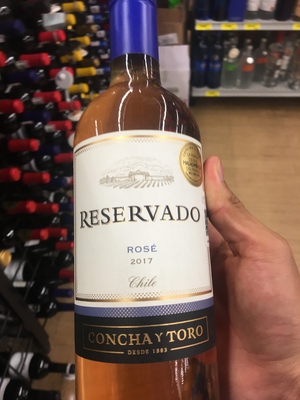reservado rose: (71, 12, 213, 399)
